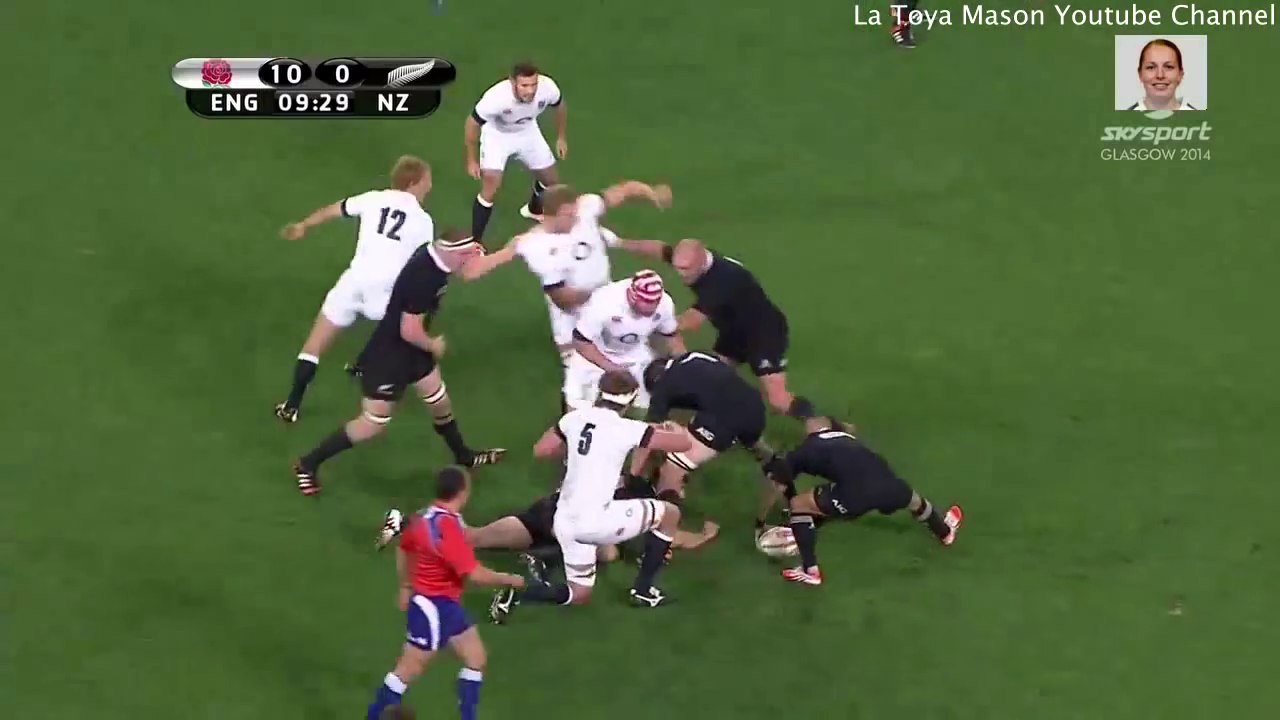ball: (749, 519, 813, 557)
player: (292, 229, 478, 506), (269, 153, 441, 424), (537, 365, 683, 612), (356, 465, 489, 720), (766, 432, 975, 592), (656, 234, 801, 394), (505, 172, 659, 312), (461, 56, 568, 240), (637, 350, 776, 476), (555, 277, 681, 366)
